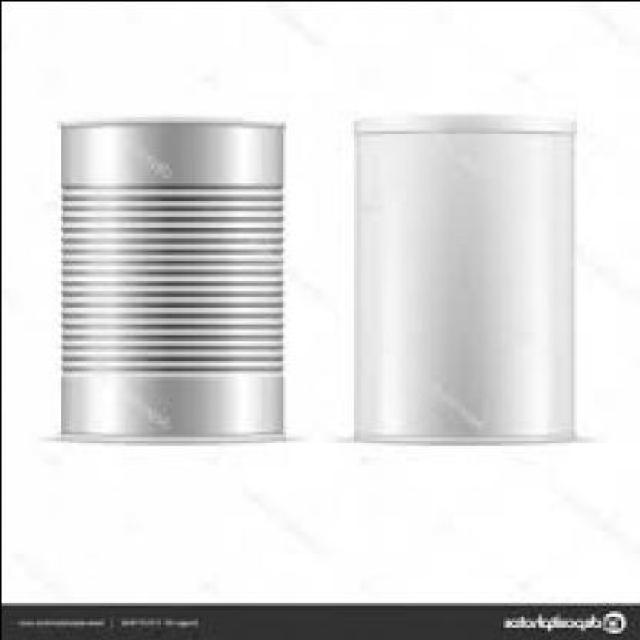METAL: (356, 107, 582, 436), (61, 118, 288, 436)
